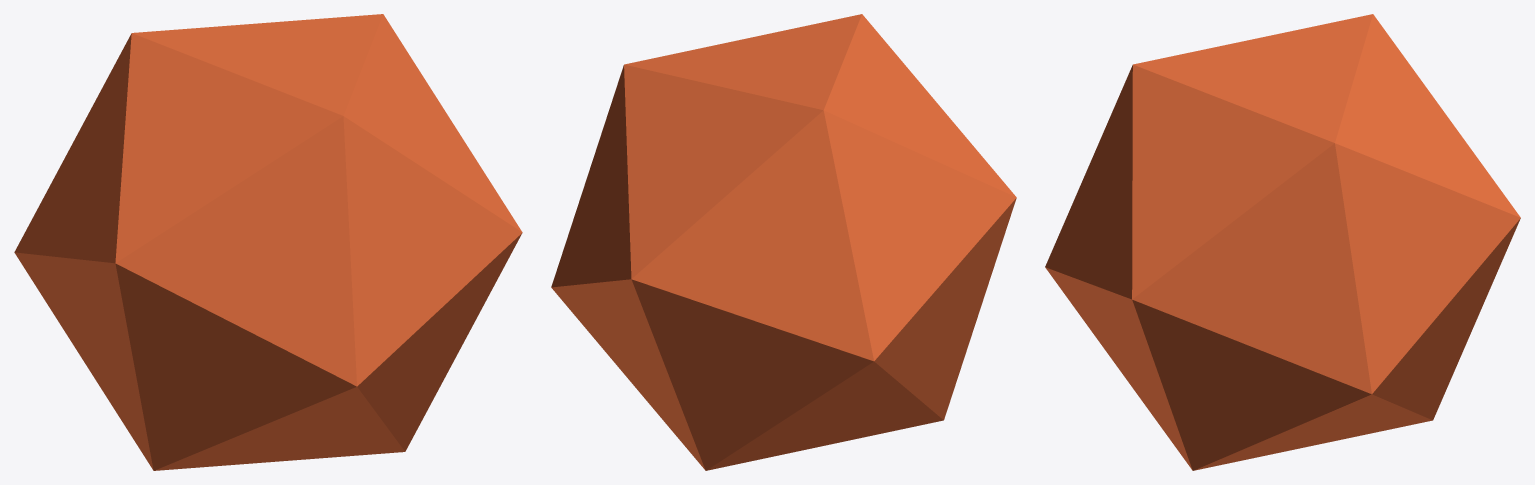
File: fruit_mat.fbx
3 renders of one model, left to right at view 1: azimuth 30°, elevation 25°; view 2: azimuth 150°, elevation 25°; view 3: azimuth 270°, elevation 25°, orthographic. The views are drawn at different scales.
Parts seen in each view (by area): view 1: fruit_mat; view 2: fruit_mat; view 3: fruit_mat.
Part boxes in pixels (left/top/right/bottom): fruit_mat: left=14, top=14, right=522, bottom=470; fruit_mat: left=551, top=14, right=1016, bottom=470; fruit_mat: left=1045, top=14, right=1520, bottom=470.
Size of the model in its own units: 14.8 by 13.92 by 16.05.
